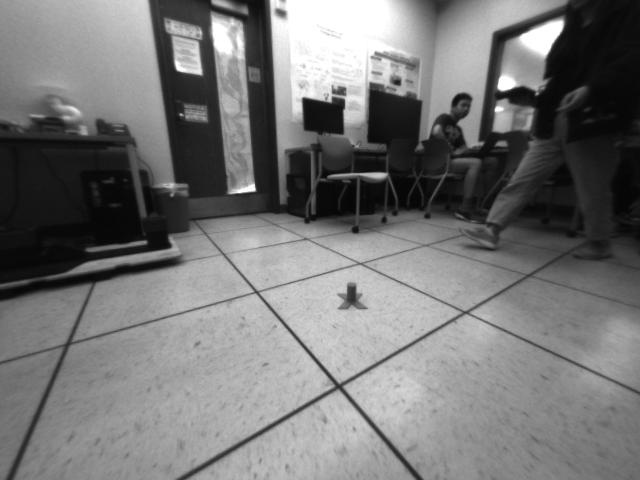x: (336, 280, 368, 312)
